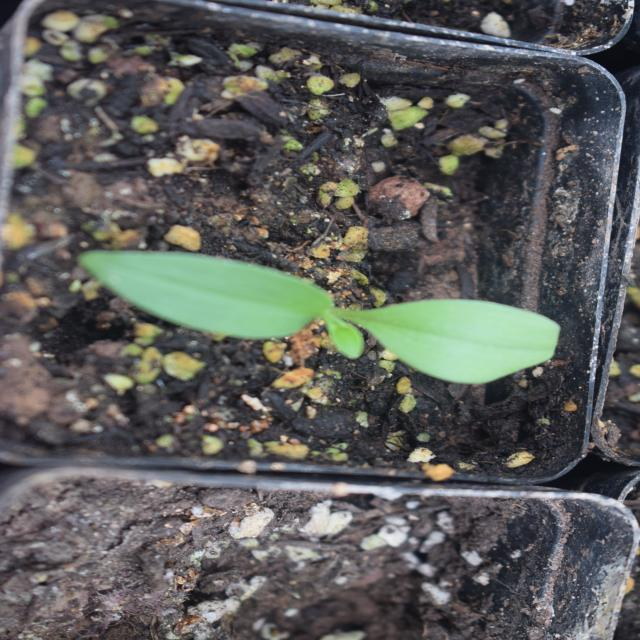Common Dayflower: (253, 55, 394, 568)
